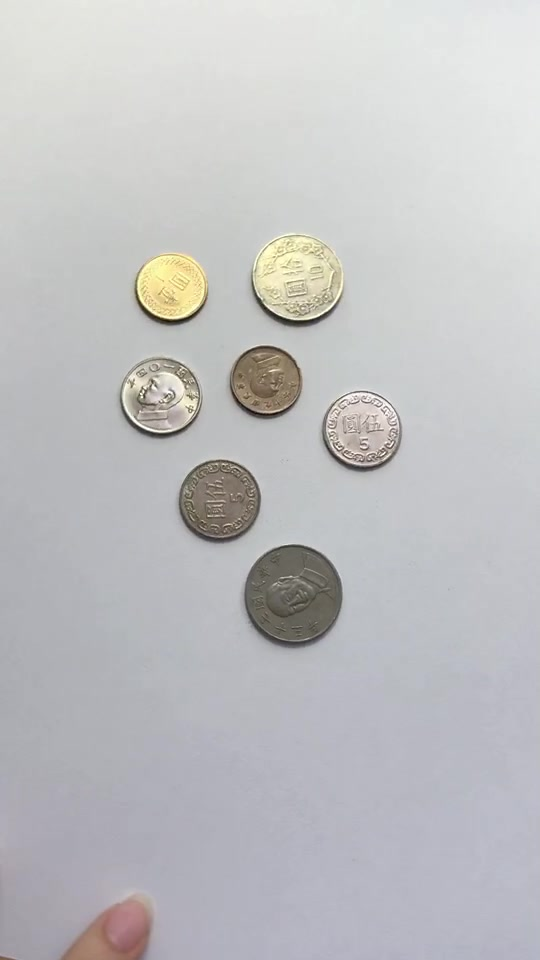1 dallar: (129, 248, 212, 327), (222, 339, 305, 418)
10 dallar: (243, 227, 351, 331), (237, 543, 345, 647)
5 dallar: (116, 352, 205, 445), (319, 384, 408, 477), (175, 454, 264, 547)
